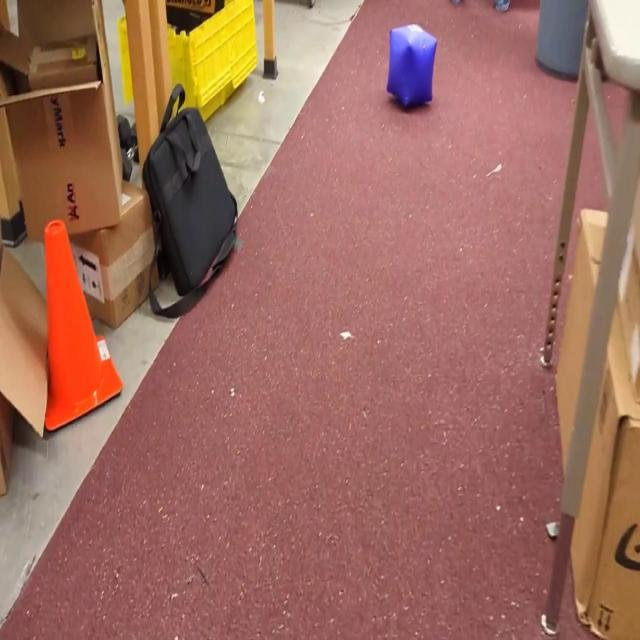frc_cube: (386, 22, 438, 113)
